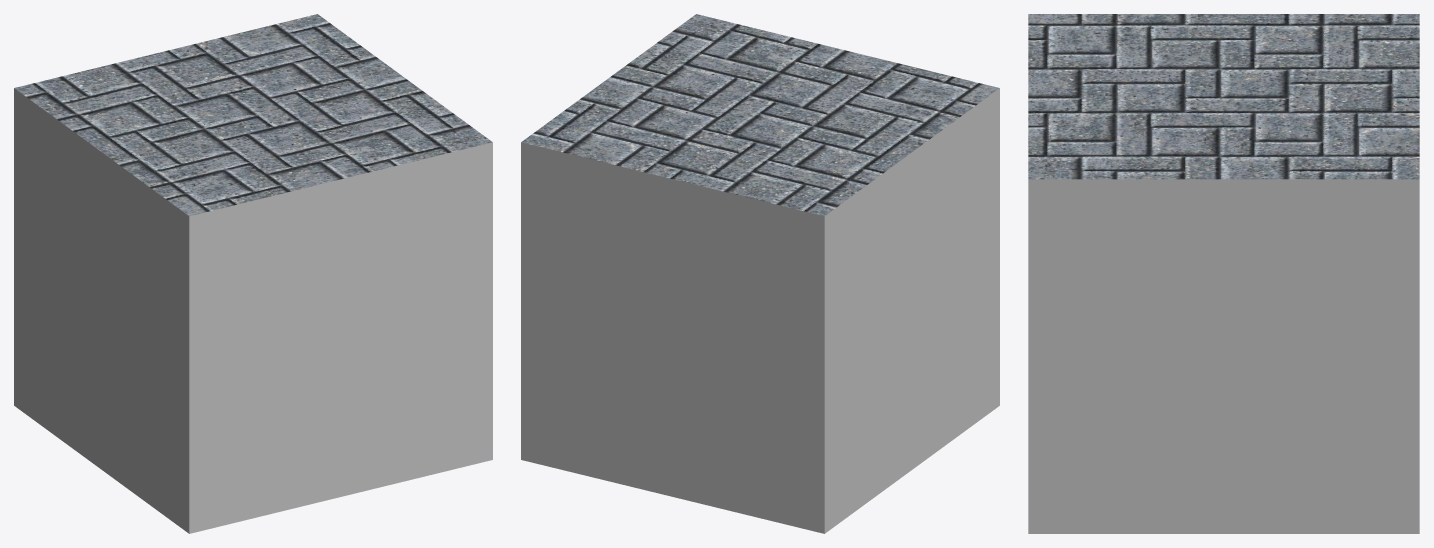
The model's file is GACH2.glb.
3 views of the same model, side by side, from view 1: azimuth 30°, elevation 25°; view 2: azimuth 150°, elevation 25°; view 3: azimuth 270°, elevation 25° (orthographic). The views are drawn at different scales.
Visible parts, largest first — view 1: Cube.004; view 2: Cube.004; view 3: Cube.004.
Part boxes in pixels (left/top/right/bottom): Cube.004: left=14, top=14, right=492, bottom=533; Cube.004: left=521, top=14, right=999, bottom=533; Cube.004: left=1028, top=14, right=1419, bottom=533.
Bounding box in the file's own units: 2 × 2 × 2.
2 materials, 1 textured.
